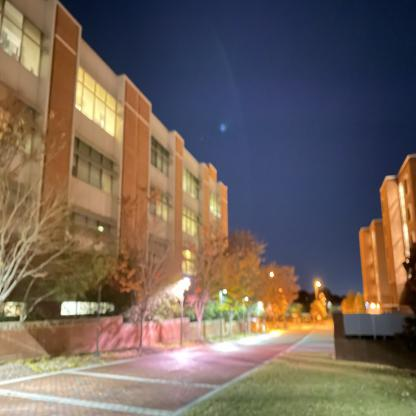eb2: (2, 2, 233, 310)
